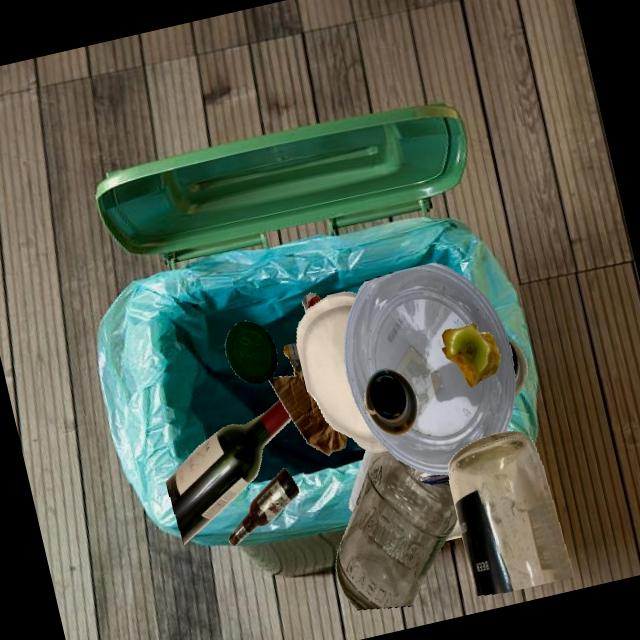biowaste: (441, 322, 500, 387)
cardboard: (268, 370, 347, 455), (414, 469, 449, 485)
glass: (448, 430, 574, 595), (335, 449, 457, 609), (165, 399, 291, 544), (229, 467, 299, 545), (364, 368, 417, 435), (508, 339, 527, 396)
paper: (296, 291, 387, 452), (347, 449, 374, 512), (283, 342, 301, 375), (301, 292, 321, 312), (445, 518, 461, 540)
plastic: (344, 262, 515, 474), (224, 320, 277, 384)
